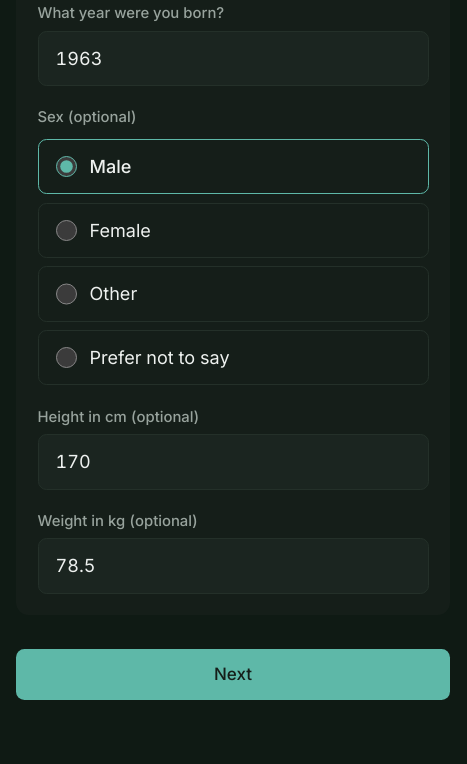
it: editing saved details › carries the saved choices through every step
This screenshot has width=467, height=764.
(page scrolled)
Click the button "Next": (233, 674) [16,649,450,700]
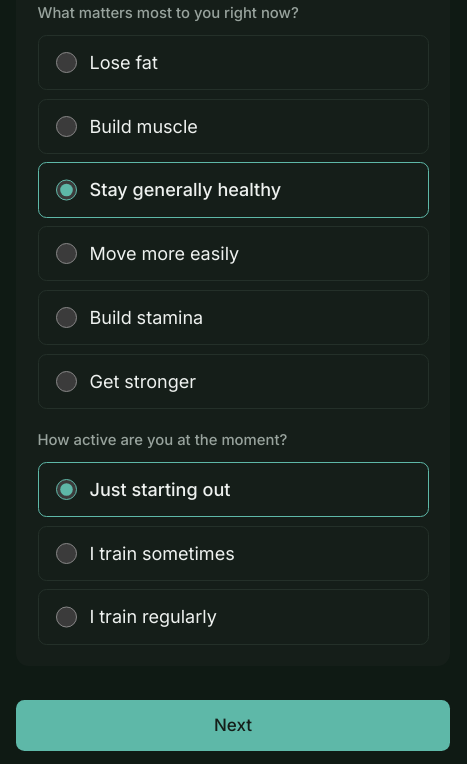
Expected: the radio button labelled "Stay generally healthy" is checked, [56,179,77,201]
Expected: the radio button labelled "Just starting out" is checked, [56,479,77,500]
Click the button "Next": (233, 725) [16,700,450,751]
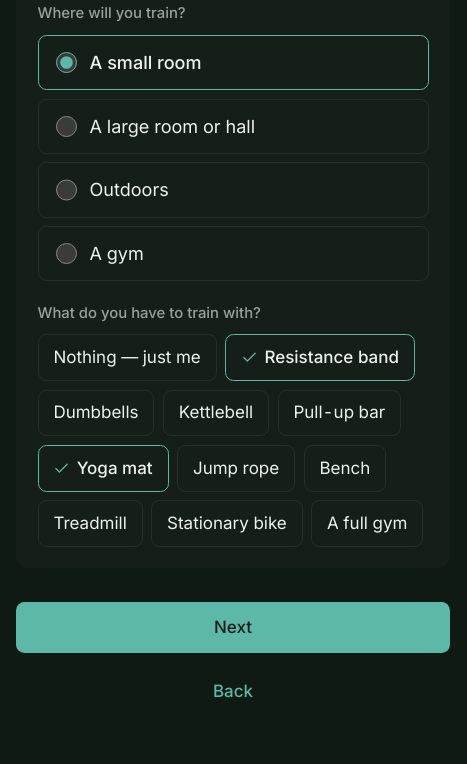
Expected: the radio button labelled "A small room" is checked, [56,52,77,73]
Expected: the checkbox labelled "Yoga mat" is checked, [38,445,168,492]
Click the button "Next": (233, 628) [16,602,450,653]
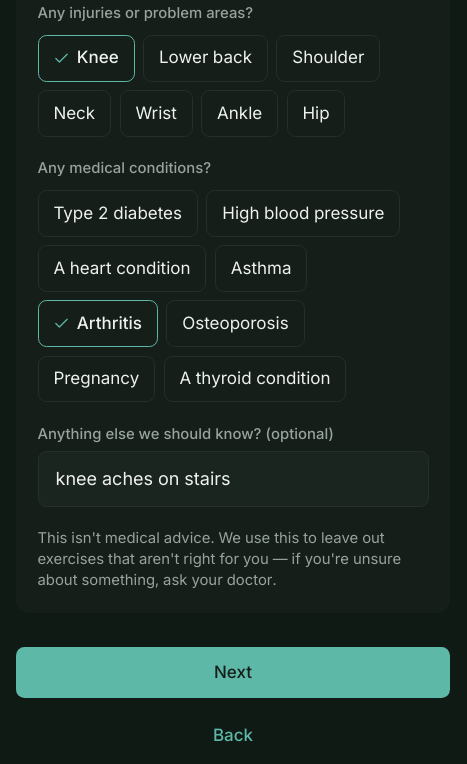
Expected: the checkbox labelled "Knee" is checked, [38,35,134,82]
Expected: the checkbox labelled "Arthritis" is checked, [38,300,158,347]
